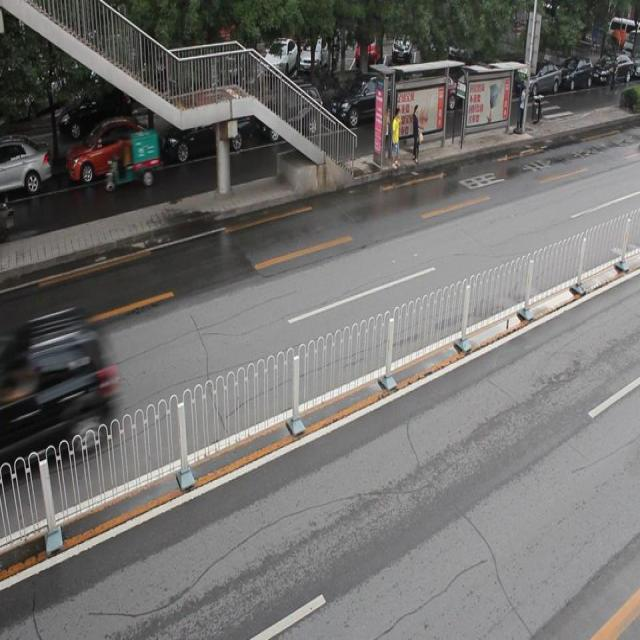car: (1, 306, 112, 470), (64, 117, 152, 185), (161, 101, 250, 162), (332, 71, 402, 128), (256, 84, 323, 142), (1, 137, 52, 195)
